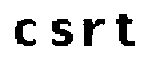c: (12, 16, 37, 51)
r: (79, 15, 105, 49)
s: (46, 16, 76, 49)
t: (111, 10, 141, 50)
